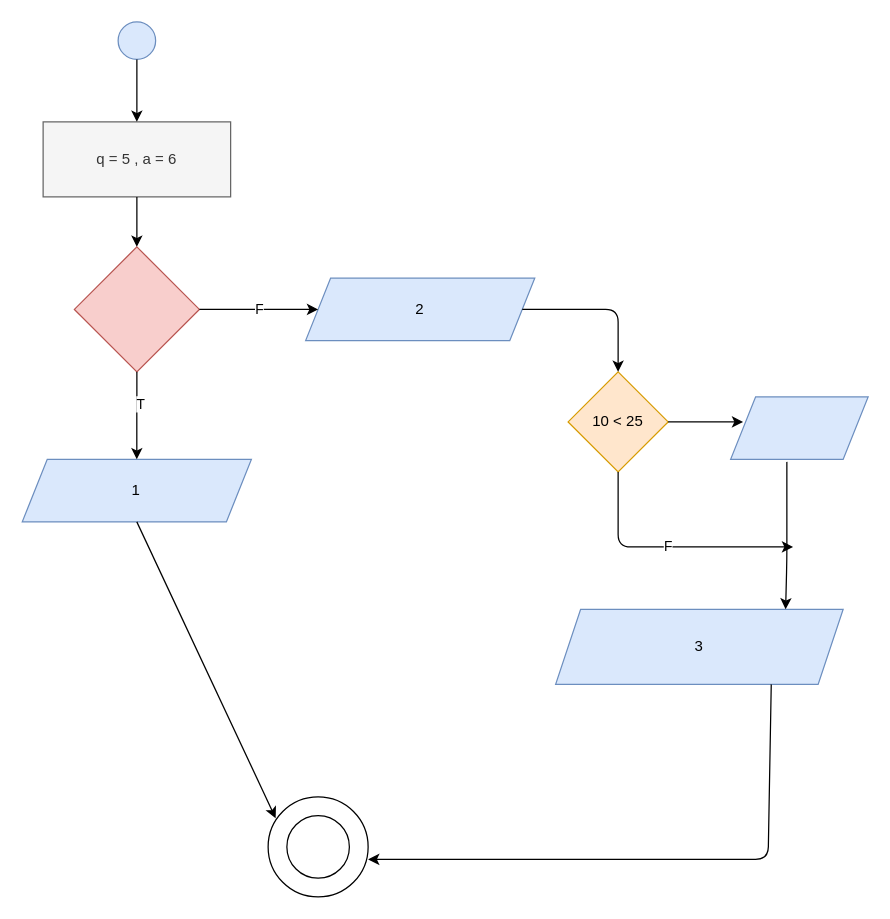
Image size: 890x919. Some labels were removed from this diagram. The centre of each missing label's shape, as x and y in pixels:
"q > a" goes at point (136, 309).
"true" goes at point (798, 427).
